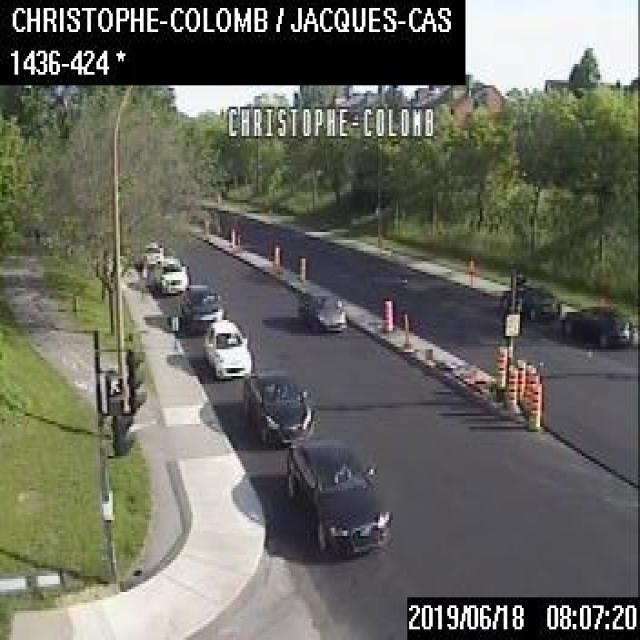construction: (524, 370, 539, 418), (525, 381, 540, 429), (503, 363, 517, 410), (521, 362, 535, 408), (493, 342, 506, 390), (514, 356, 525, 404), (382, 298, 391, 330), (466, 256, 475, 288), (297, 254, 304, 280), (272, 242, 279, 266), (230, 226, 236, 246)
vehicle: (285, 439, 390, 559), (242, 368, 313, 446), (559, 303, 633, 344), (202, 317, 252, 375), (496, 282, 556, 320), (177, 282, 223, 330), (306, 288, 348, 328), (152, 255, 188, 293), (142, 239, 162, 263)
